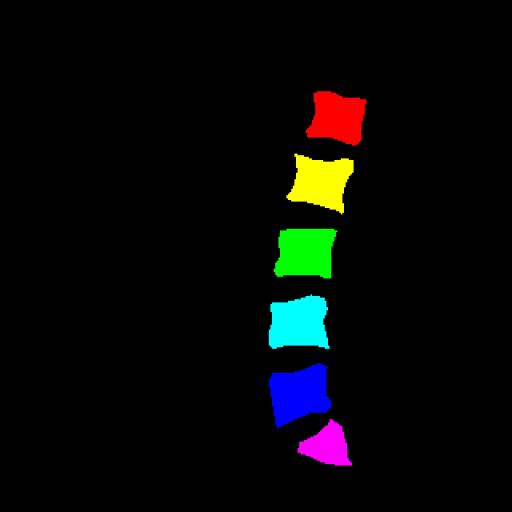L1: (306, 91, 366, 146)
L2: (286, 154, 354, 214)
L3: (274, 229, 337, 278)
L4: (269, 295, 329, 349)
L5: (267, 362, 333, 429)
S1: (298, 419, 351, 466)
